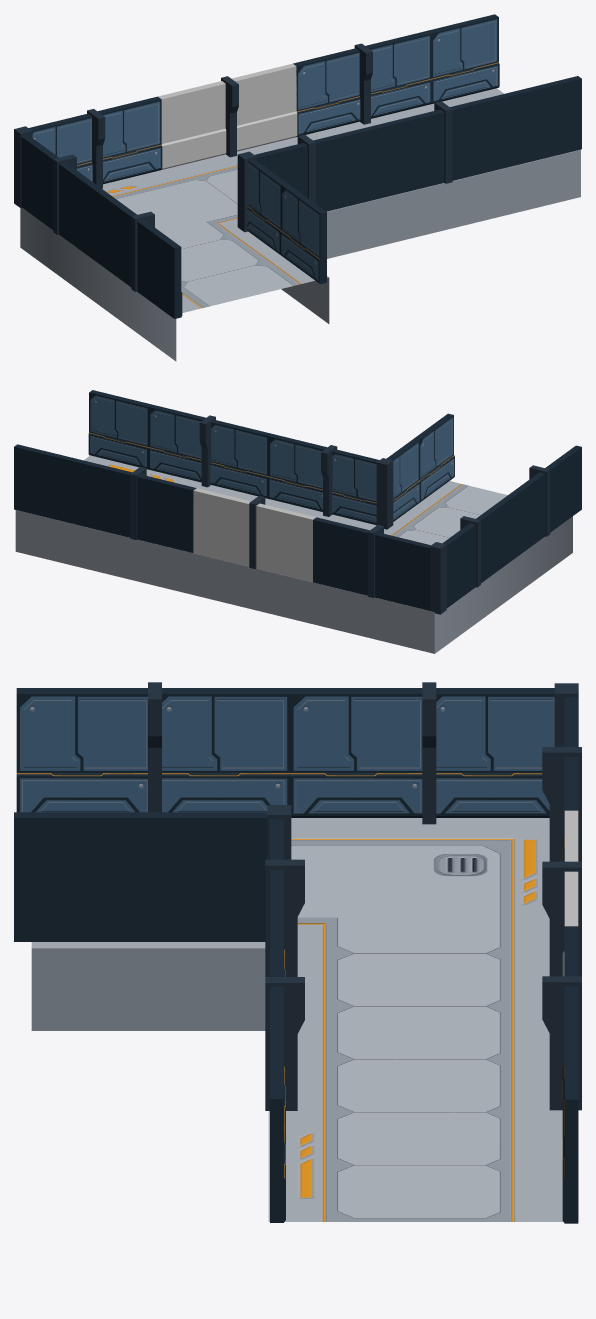
File: lorong1.dae
3 views of the same model, one above another, from view 1: azimuth 30°, elevation 25°; view 2: azimuth 150°, elevation 25°; view 3: azimuth 270°, elevation 25° (orthographic). The views are drawn at different scales.
Visible parts, largest first — view 1: Cube.195, Cube.005, Cube.202, Cube.002, Cube.201, Cube.008, Cube.003, Cube.004, Cube.190, Cube.045; view 2: Cube.195, Cube.005, Cube.202, Cube.002, Cube.201, Cube.008, Cube.003, Cube.190, Cube.045, Cube.004; view 3: Cube.195, Cube.202, Cube.005, Cube.008, Cube.003, Cube.002, Cube.004, Cube.201, Cube.045, Cube.190.
Boxes of the visible parts, x1=… form: Cube.195: x1=20, y1=88, x2=580, y2=361; Cube.005: x1=247, y1=76, x2=581, y2=284; Cube.202: x1=21, y1=96, x2=182, y2=318; Cube.002: x1=293, y1=14, x2=499, y2=136; Cube.201: x1=158, y1=63, x2=297, y2=169; Cube.008: x1=87, y1=43, x2=372, y2=188; Cube.003: x1=297, y1=101, x2=452, y2=203; Cube.004: x1=53, y1=154, x2=154, y2=291; Cube.190: x1=237, y1=151, x2=256, y2=232; Cube.045: x1=14, y1=126, x2=32, y2=208; Cube.195: x1=15, y1=455, x2=572, y2=653; Cube.005: x1=88, y1=390, x2=454, y2=525; Cube.202: x1=313, y1=445, x2=581, y2=610; Cube.002: x1=14, y1=444, x2=196, y2=552; Cube.201: x1=193, y1=488, x2=315, y2=582; Cube.008: x1=130, y1=466, x2=383, y2=597; Cube.003: x1=199, y1=415, x2=337, y2=516; Cube.190: x1=376, y1=458, x2=393, y2=529; Cube.045: x1=430, y1=542, x2=446, y2=614; Cube.004: x1=460, y1=465, x2=550, y2=587; Cube.195: x1=31, y1=818, x2=578, y2=1221; Cube.202: x1=16, y1=688, x2=578, y2=861; Cube.005: x1=14, y1=812, x2=285, y2=1222; Cube.008: x1=542, y1=747, x2=581, y2=1110; Cube.003: x1=265, y1=859, x2=304, y2=1110; Cube.002: x1=562, y1=926, x2=578, y2=1223; Cube.004: x1=148, y1=682, x2=436, y2=824; Cube.201: x1=562, y1=810, x2=578, y2=976; Cube.045: x1=554, y1=683, x2=578, y2=746; Cube.190: x1=267, y1=805, x2=291, y2=859.
Bounding box in the file's own units: 21.43 × 12.46 × 5.1.
